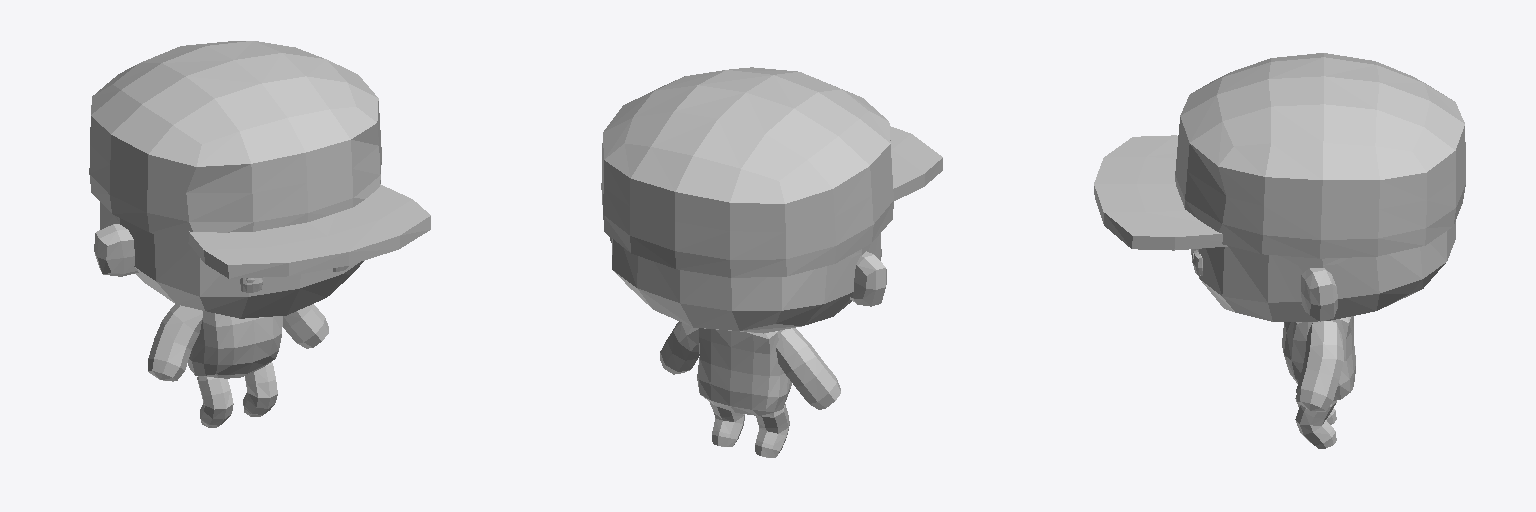
Rendered from jump_0008.obj.
The picture shows the model from 3 angles: view 1: azimuth 30°, elevation 25°; view 2: azimuth 150°, elevation 25°; view 3: azimuth 270°, elevation 25°; orthographic projection.
Visible parts, largest first — view 1: Object_41, Object_42, Object_44, Object_36; view 2: Object_41, Object_36, Object_44, Object_42; view 3: Object_41, Object_36, Object_42, Object_44.
Boxes of the visible parts, box(x1,y1,x2,y2) form: Object_41: box(89, 41, 381, 241); Object_42: box(186, 123, 430, 278); Object_44: box(148, 304, 328, 427); Object_36: box(94, 202, 363, 318); Object_41: box(601, 67, 893, 277); Object_36: box(609, 233, 886, 333); Object_44: box(660, 321, 840, 457); Object_42: box(890, 126, 942, 200); Object_41: box(1180, 53, 1465, 258); Object_36: box(1191, 222, 1455, 321); Object_42: box(1094, 117, 1227, 250); Object_44: box(1282, 316, 1355, 448).
Size of the model in its own units: 0.9691 by 1.2 by 1.13.